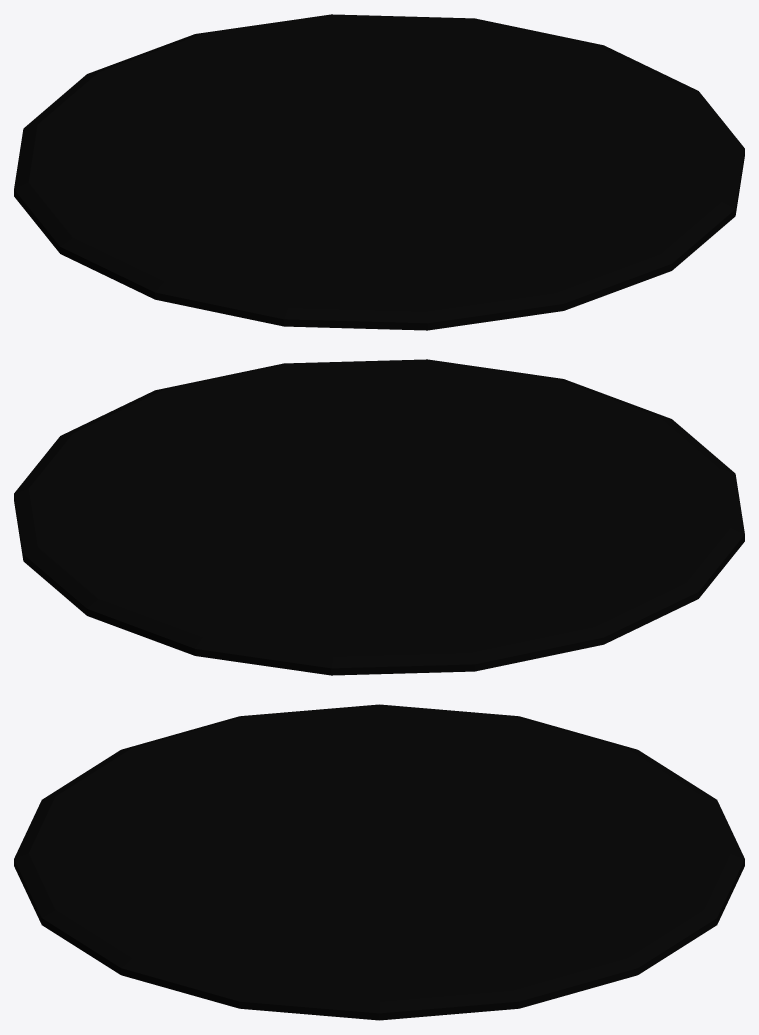
The model's file is BasePlatform.007.glb.
The picture shows the model from 3 angles, top to bottom: view 1: azimuth 30°, elevation 25°; view 2: azimuth 150°, elevation 25°; view 3: azimuth 270°, elevation 25°; orthographic projection.
Parts seen in each view (by area): view 1: BasePlatform.007; view 2: BasePlatform.007; view 3: BasePlatform.007.
Boxes of the visible parts, x1,y1,x2,y2 form: BasePlatform.007: (14, 14, 744, 330); BasePlatform.007: (14, 359, 744, 675); BasePlatform.007: (14, 704, 744, 1020).
Size of what is drawn, in the model's own units: 4.06 by 0.0778 by 4.06.
1 material, 1 textured.
